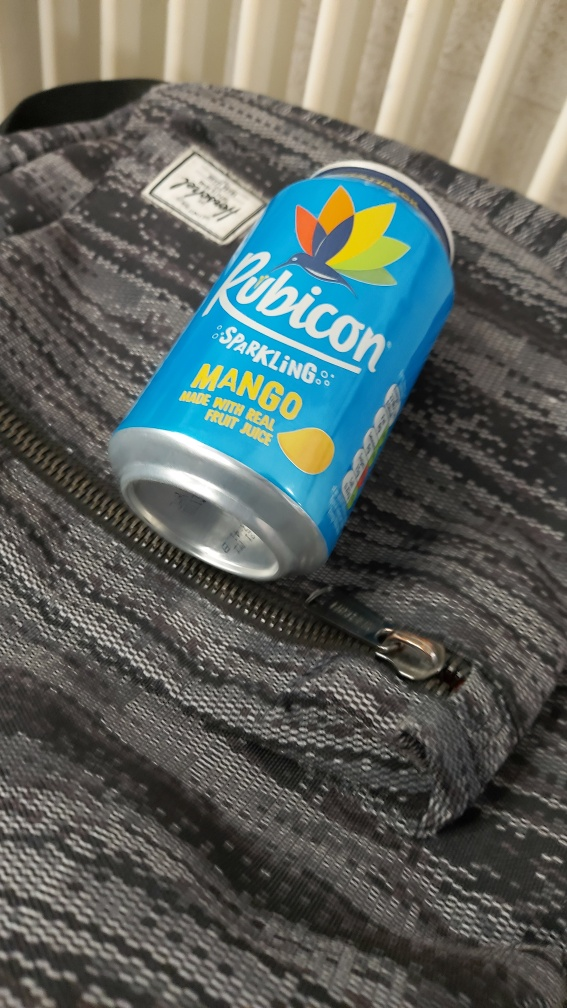can_blue: (49, 124, 492, 598)
